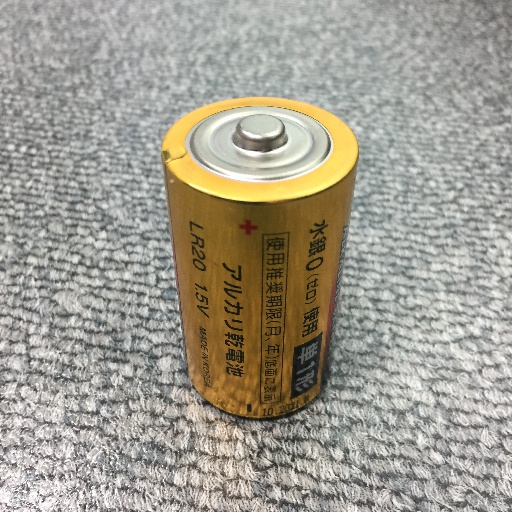Battery_0: (152, 81, 362, 429)
